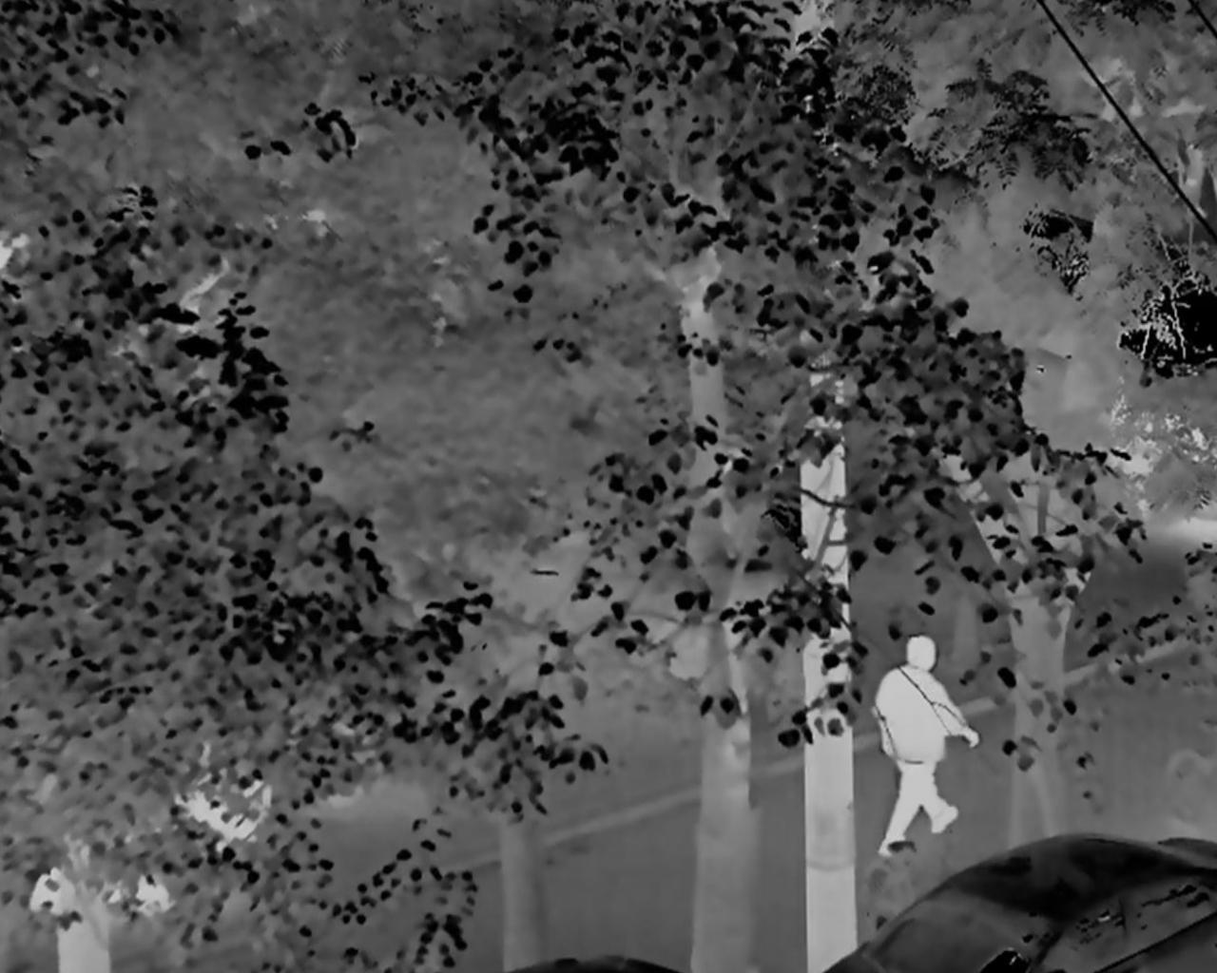person: (874, 638, 978, 861)
